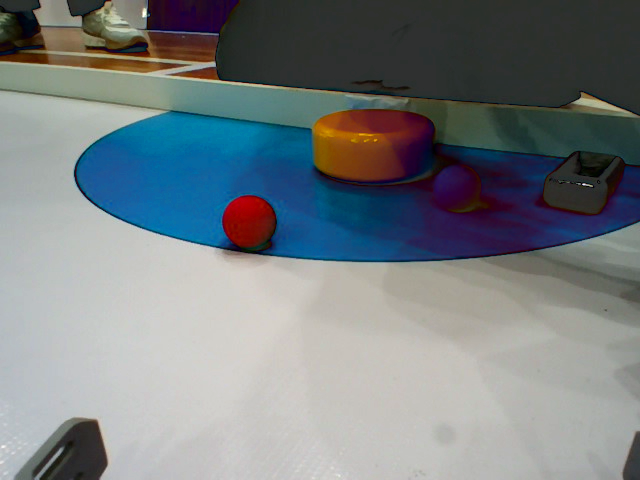black: (541, 142, 622, 226)
blue: (433, 165, 481, 215)
red: (219, 196, 281, 251)
yellow: (309, 104, 437, 183)
